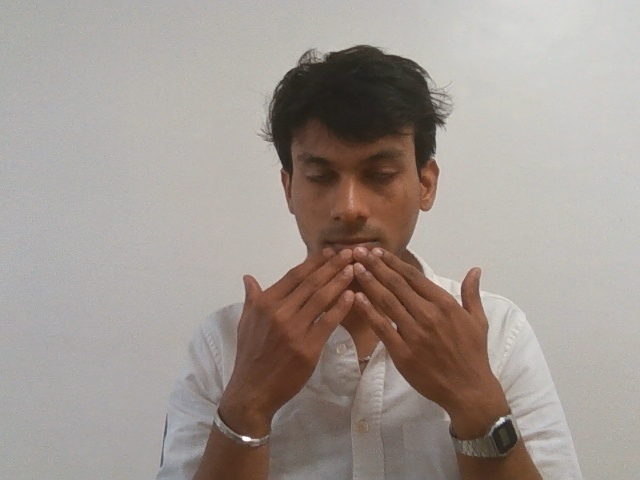ThankYou: (221, 244, 510, 425)
